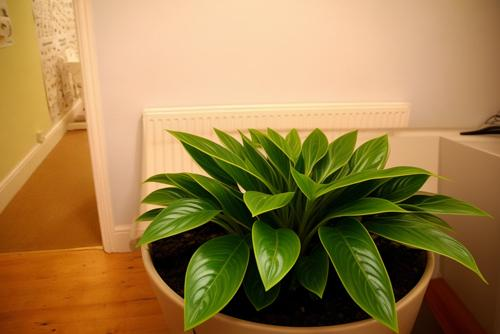person: (215, 131, 318, 251)
person/foot: (295, 217, 315, 236), (269, 230, 282, 248)
person/hand: (241, 206, 255, 224), (264, 195, 279, 206)
person/head: (233, 131, 273, 180)
pottedplant: (134, 128, 500, 332)
